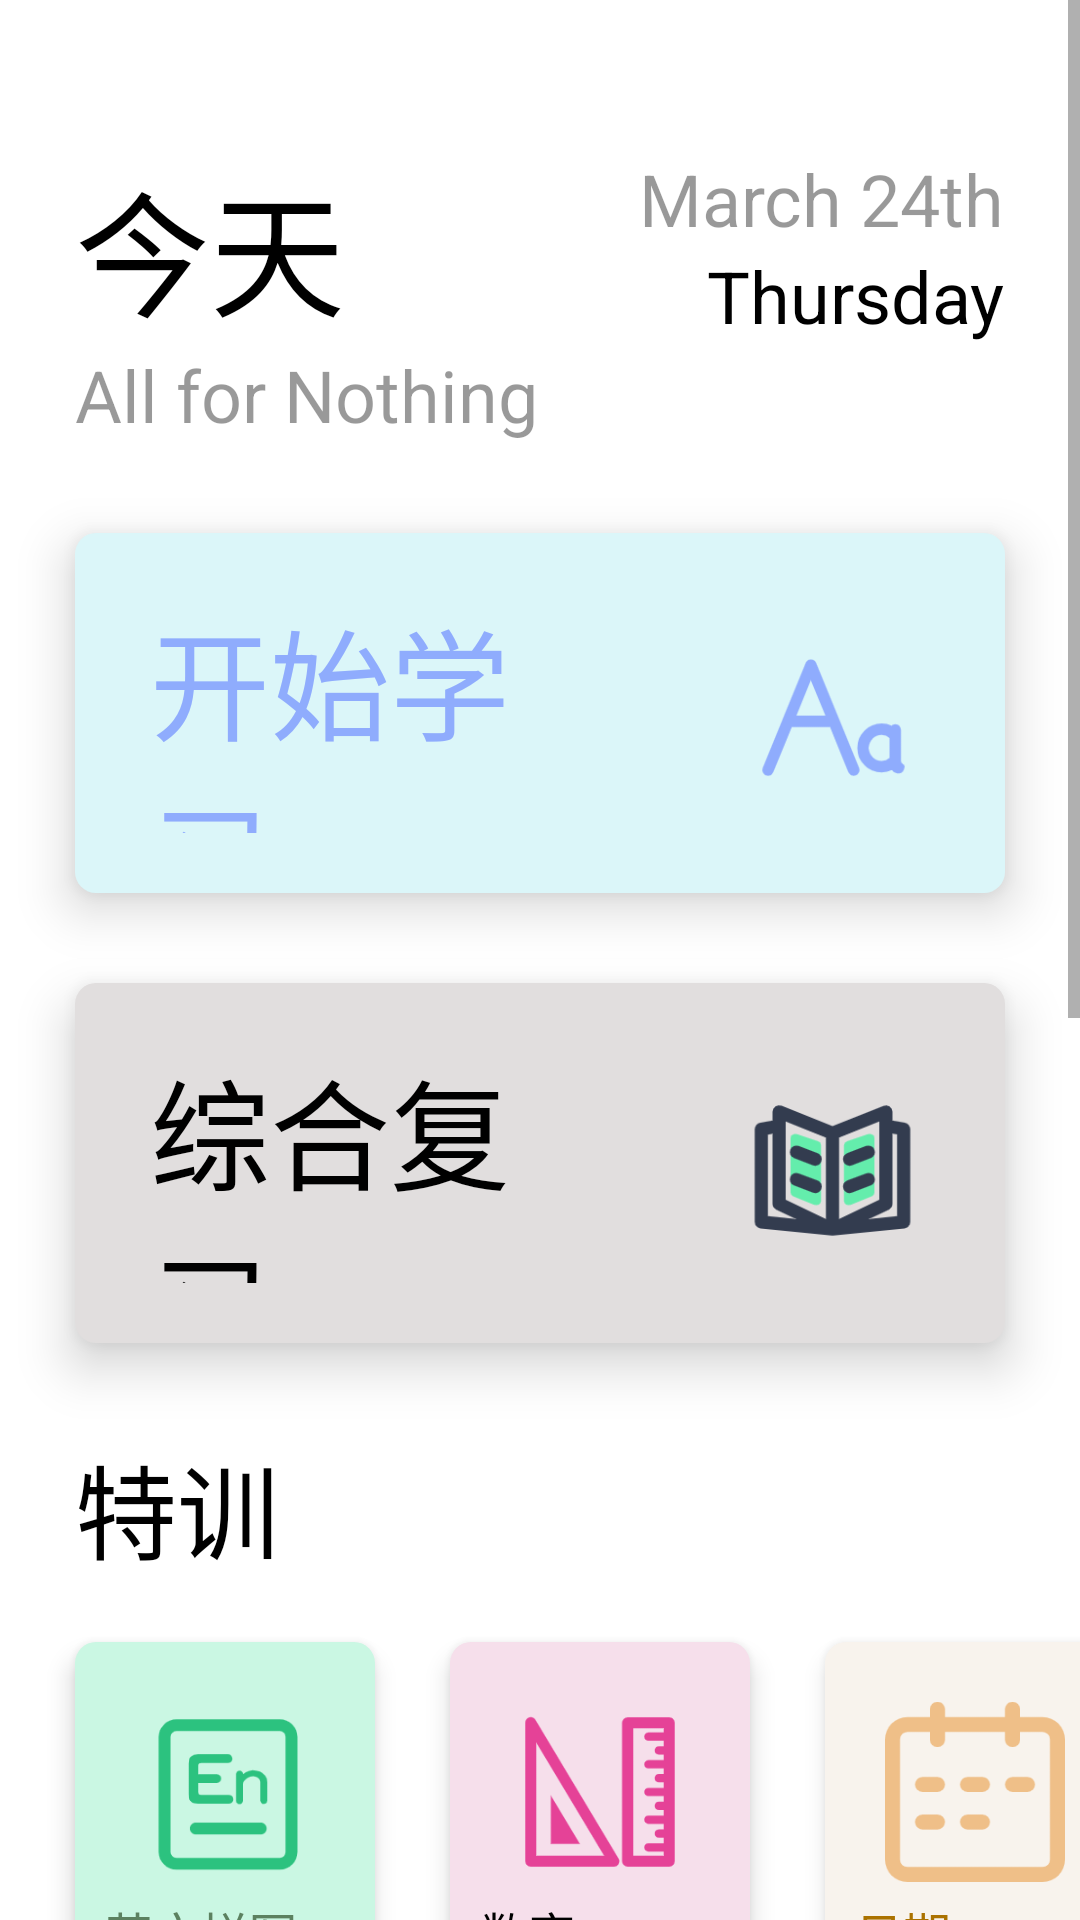

Icons on this 1080 × 1920 Android screen, each with the point to tap as (x=x, y=y):
pic num: (x=600, y=1792)
pic review: (x=832, y=1170)
pic spell: (x=228, y=1794)
pic start: (x=833, y=717)
